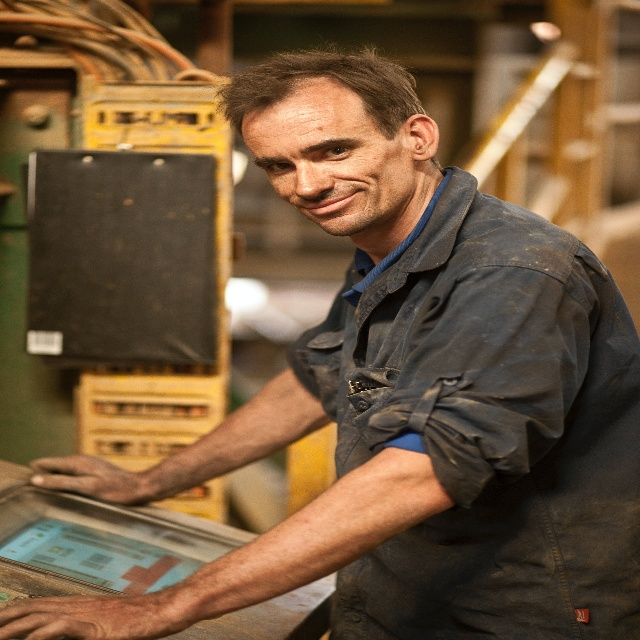Sin_guantes: (0, 593, 167, 640), (29, 448, 145, 507)
